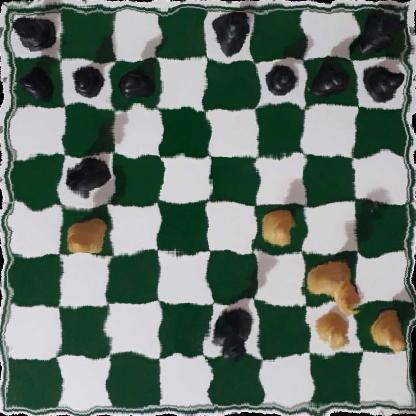black-bishop: (61, 152, 109, 198)
black-king: (211, 8, 254, 55)
black-pawn: (360, 63, 400, 102), (19, 62, 54, 101), (118, 64, 154, 101), (310, 60, 346, 96), (69, 63, 105, 97), (260, 61, 297, 94)
black-queen: (213, 300, 251, 367)
black-rook: (354, 9, 407, 54), (11, 9, 58, 53)
white-bishop: (64, 216, 108, 258)
white-king: (307, 259, 363, 316)
white-pawn: (311, 314, 357, 352), (371, 310, 413, 350), (255, 207, 297, 245)
